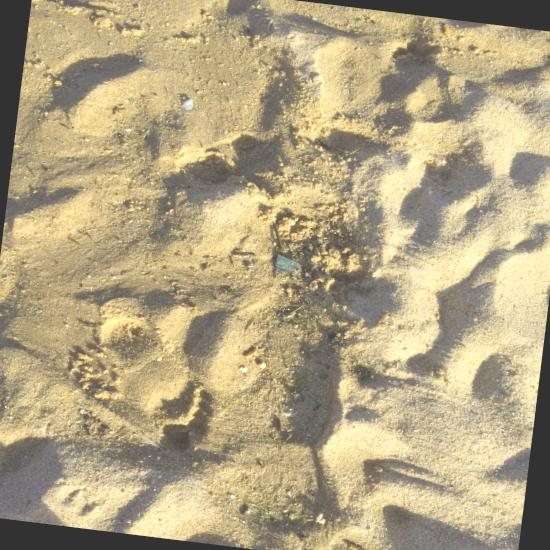Cigarette: (244, 347, 258, 359), (347, 543, 366, 550), (442, 24, 451, 36)
Other plastic bottle: (275, 254, 304, 273)
